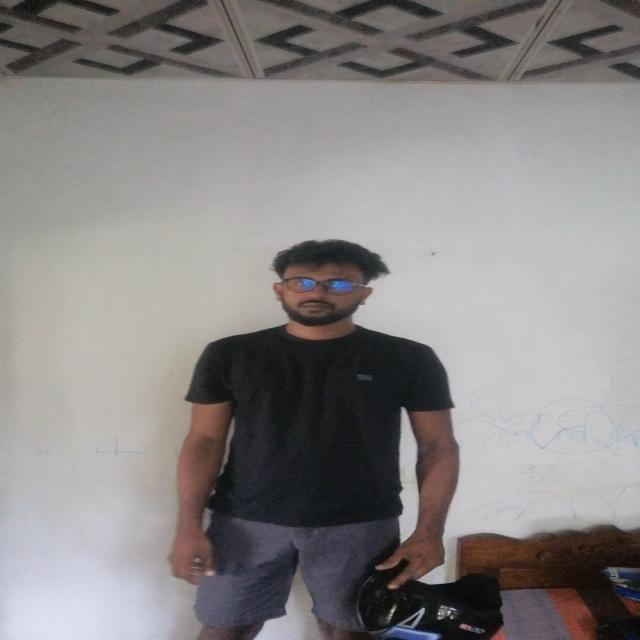Person: (172, 238, 475, 640)
